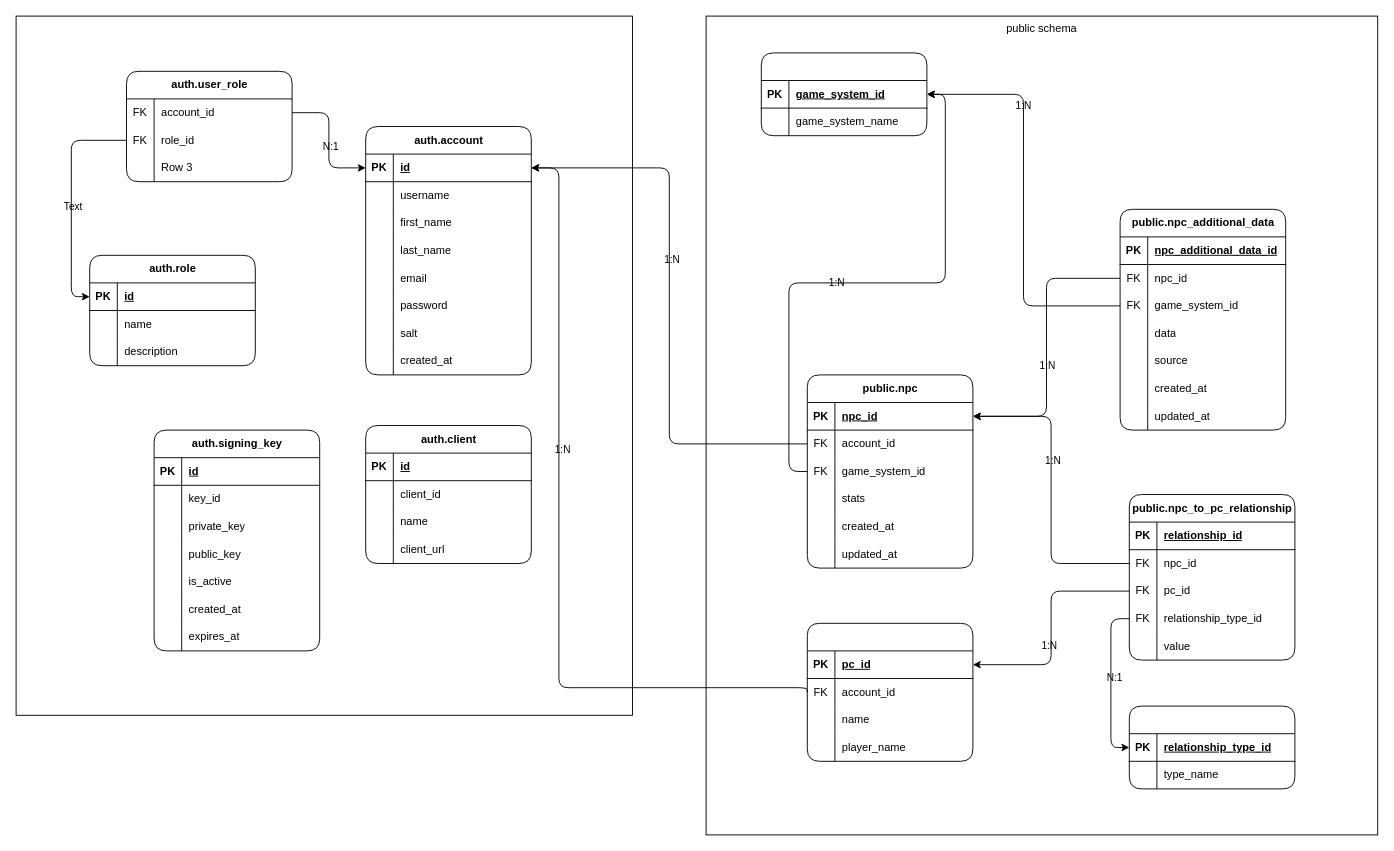
Some shapes in this 1394 by 851 pixel diagram are drawn without their labels. The shapes that lost their labels are listed below. From the top down, each one's box as (x1, y1, x2, y2) in pixels, then its label:
(760, 52, 927, 136): public.game_system
(15, 15, 632, 715): auth schema
(806, 622, 973, 761): public.pc
(1128, 705, 1295, 789): public.relationship_type
